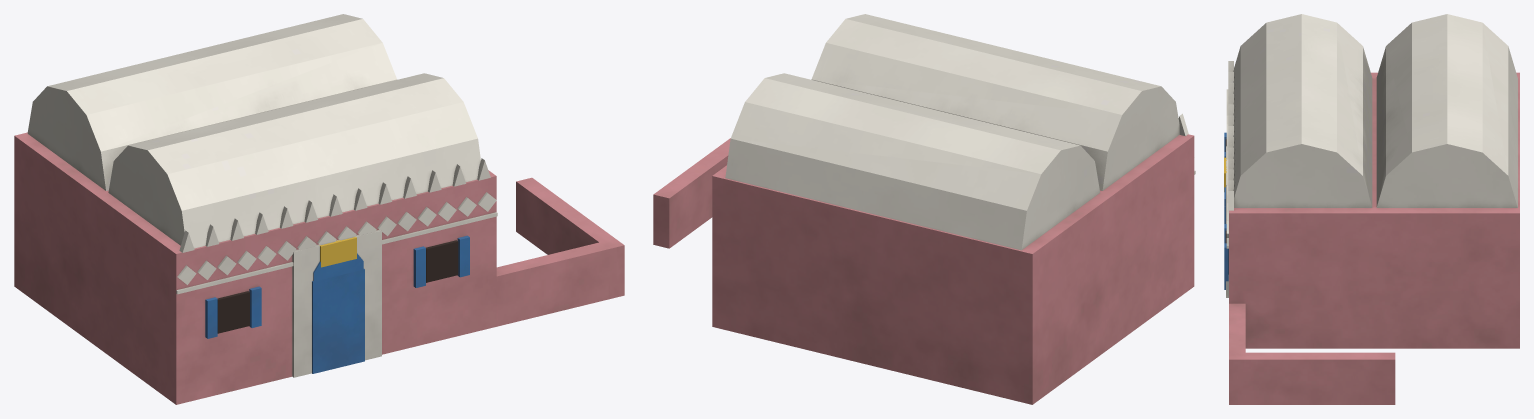
File: hus_nubisk_3_tex.glb
3 views of the same model, side by side, from view 1: azimuth 30°, elevation 25°; view 2: azimuth 150°, elevation 25°; view 3: azimuth 270°, elevation 25° (orthographic). The views are drawn at different scales.
Visible parts, largest first — view 1: hus_nubisk_3; view 2: hus_nubisk_3; view 3: hus_nubisk_3.
Boxes of the visible parts, x1,y1,x2,y2 form: hus_nubisk_3: (14,14,624,404); hus_nubisk_3: (653,14,1195,404); hus_nubisk_3: (1224,14,1519,404).
Bounding box in the file's own units: 11.2 × 5.3 × 7.12.
Materials: 5 (3 with a texture image).
